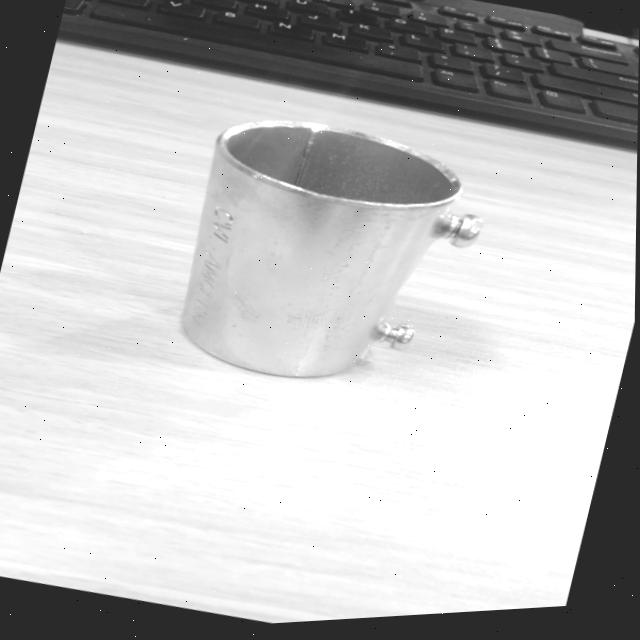Co_Nho: (170, 102, 494, 410)
